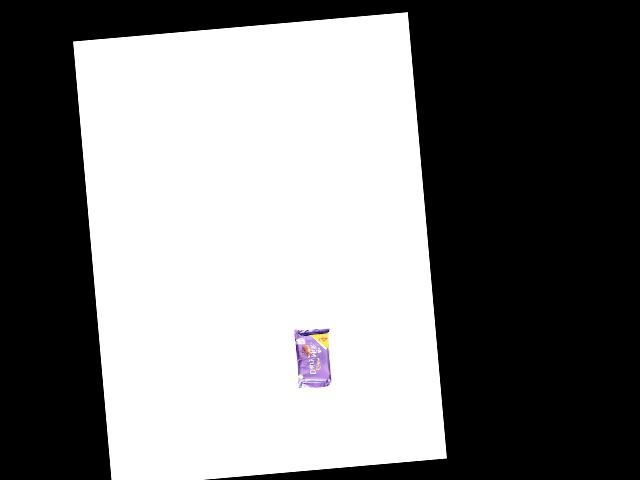chocolate: (288, 319, 334, 391)
